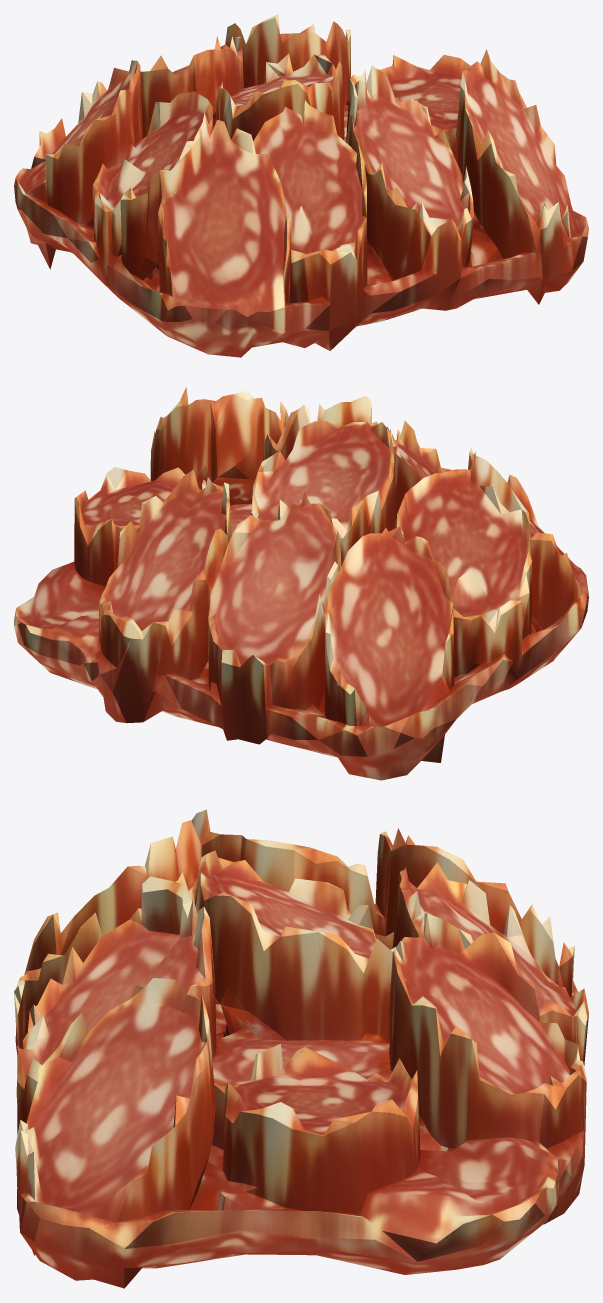
The model's file is Salami.glb.
3 renders of one model, top to bottom at view 1: azimuth 30°, elevation 25°; view 2: azimuth 150°, elevation 25°; view 3: azimuth 270°, elevation 25°, orthographic. The views are drawn at different scales.
Visible parts, largest first — view 1: geometry_0; view 2: geometry_0; view 3: geometry_0.
Part boxes in pixels (x1=…): geometry_0: x1=14, y1=14, x2=588, y2=357; geometry_0: x1=14, y1=387, x2=588, y2=780; geometry_0: x1=14, y1=809, x2=588, y2=1288.
Size of the model in its own units: 0.15 by 0.08 by 0.14.
Materials: 1 (1 with a texture image).
